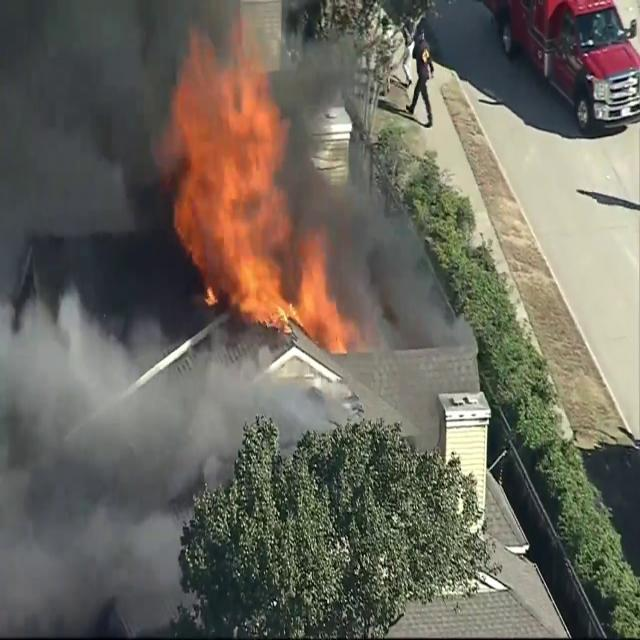Fire: (161, 9, 354, 358)
Smoke: (2, 284, 274, 640), (0, 0, 196, 317), (331, 162, 472, 440)
